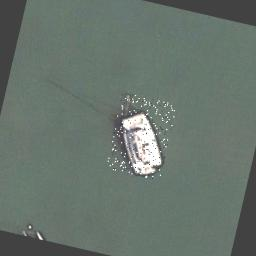boat: (104, 92, 176, 181)
